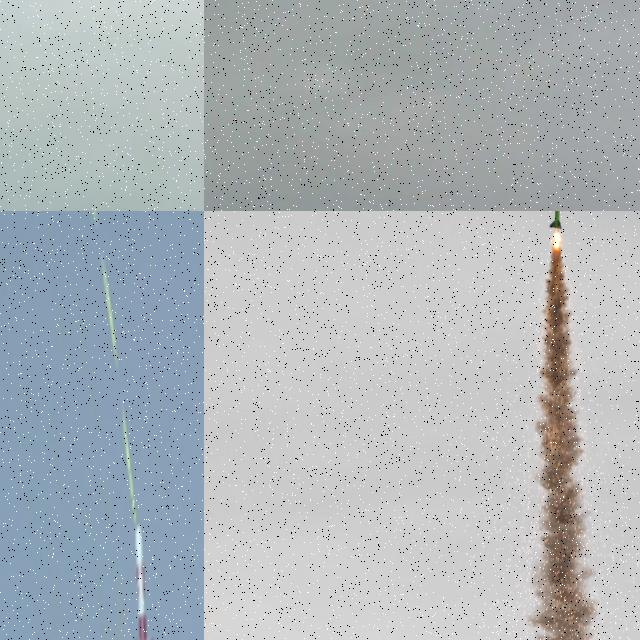Rocket: (132, 525, 155, 640), (548, 211, 562, 230)
